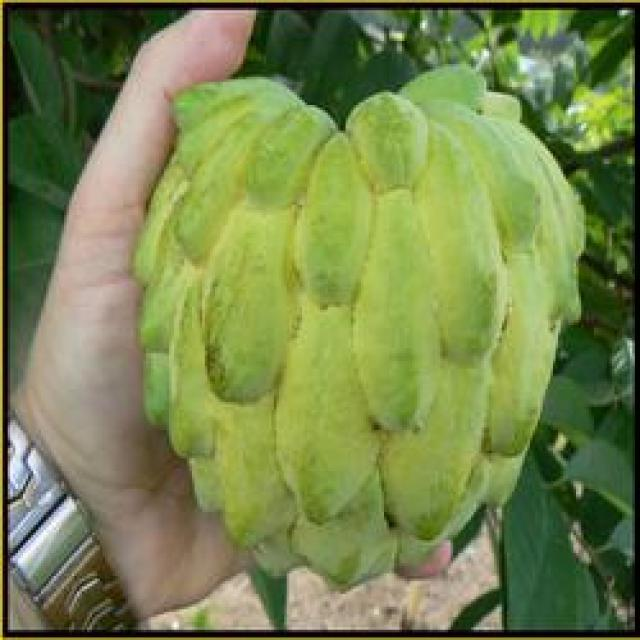apple: (143, 69, 589, 556)
